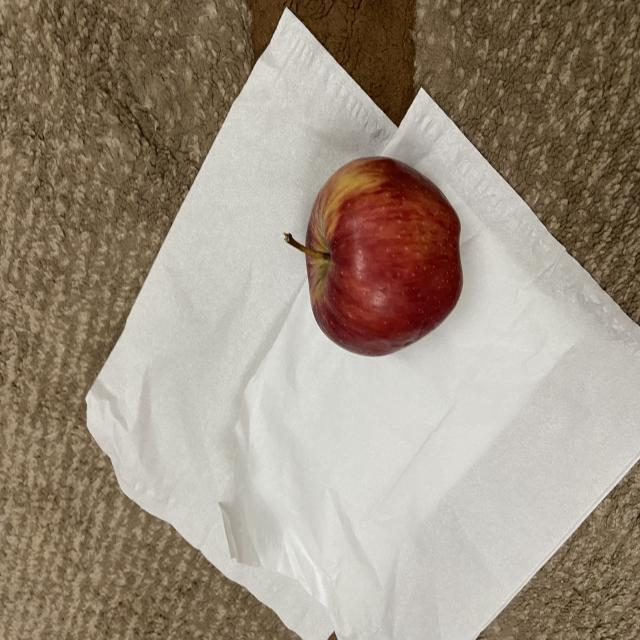apple: (280, 153, 465, 363)
